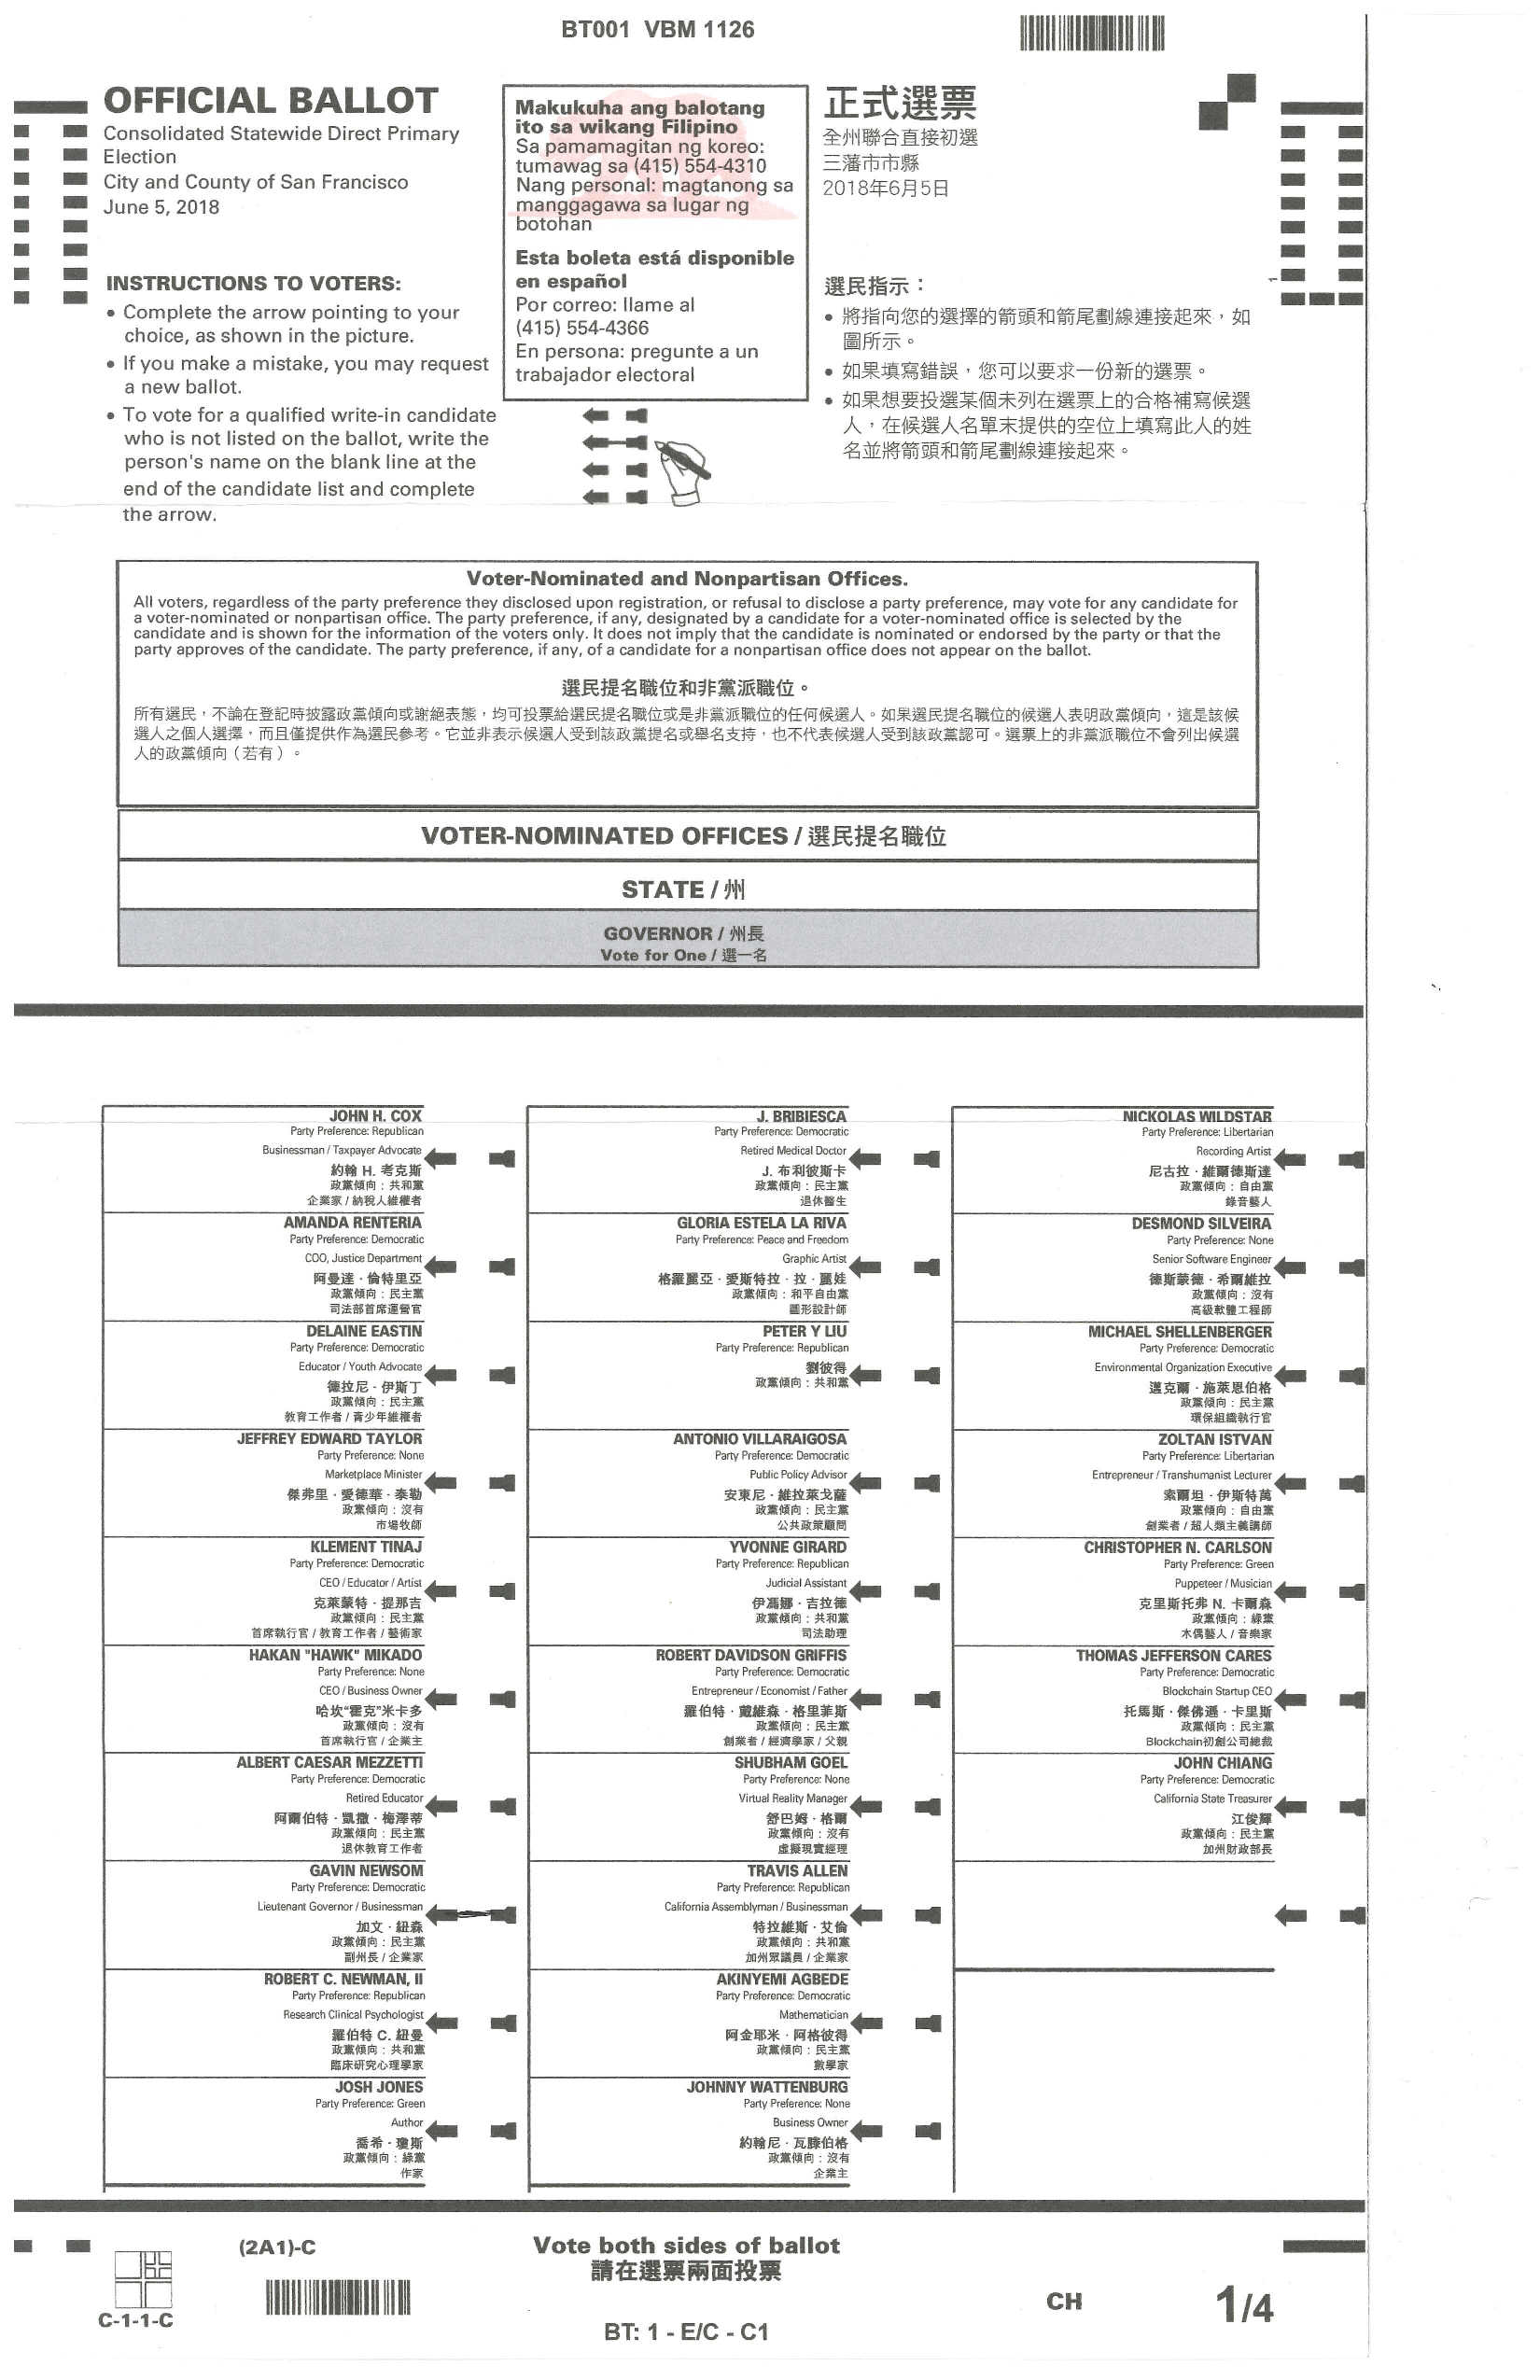marked: (427, 1899, 517, 1927)
unmarked: (1275, 1792, 1368, 1823), (1273, 1903, 1365, 1934), (421, 1684, 519, 1714), (423, 1794, 519, 1820)
